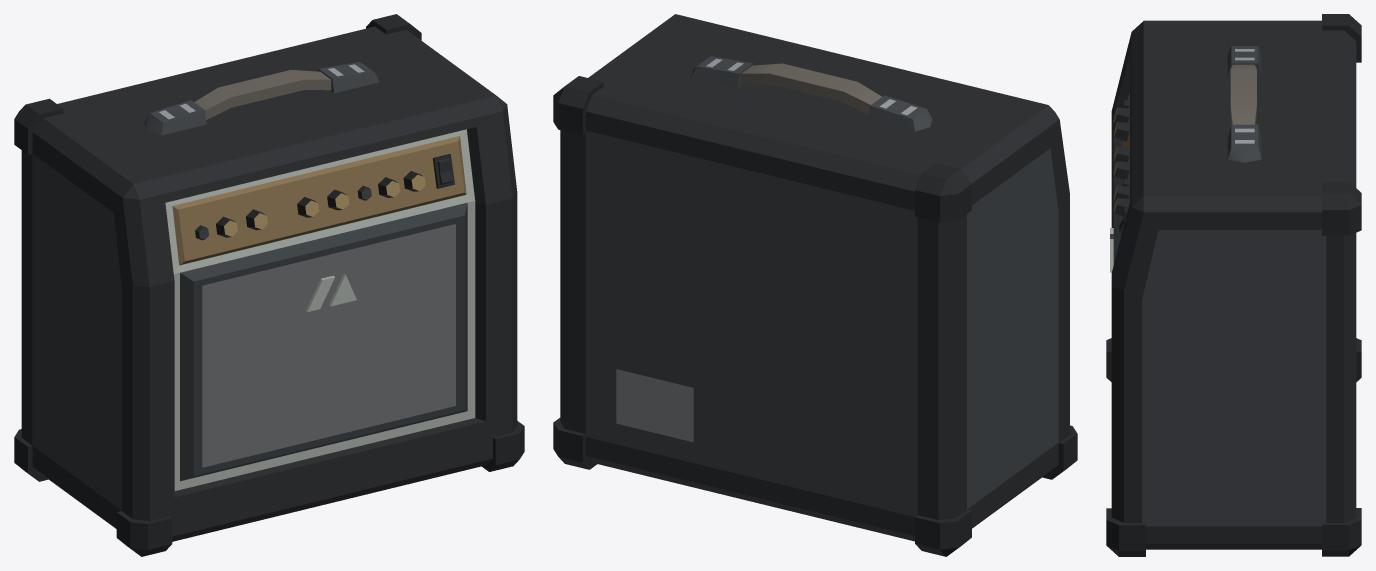
Rendered from Amplifier.fbx.
The picture shows the model from 3 angles, left to right: view 1: azimuth 30°, elevation 25°; view 2: azimuth 150°, elevation 25°; view 3: azimuth 270°, elevation 25°; orthographic projection. The views are drawn at different scales.
Parts seen in each view (by area): view 1: Amplifier; view 2: Amplifier; view 3: Amplifier.
Part boxes in pixels (bbox=[...]): Amplifier: bbox=[14, 14, 524, 556]; Amplifier: bbox=[553, 14, 1077, 556]; Amplifier: bbox=[1106, 14, 1361, 556].
Size of the model in its own units: 87.05 by 80.76 by 49.39.
1 material, 1 textured.
